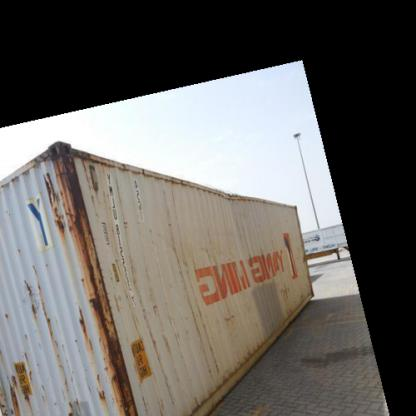Damage: (70, 288, 143, 415), (42, 150, 107, 260), (18, 275, 53, 321), (208, 185, 262, 203), (270, 276, 293, 310)
